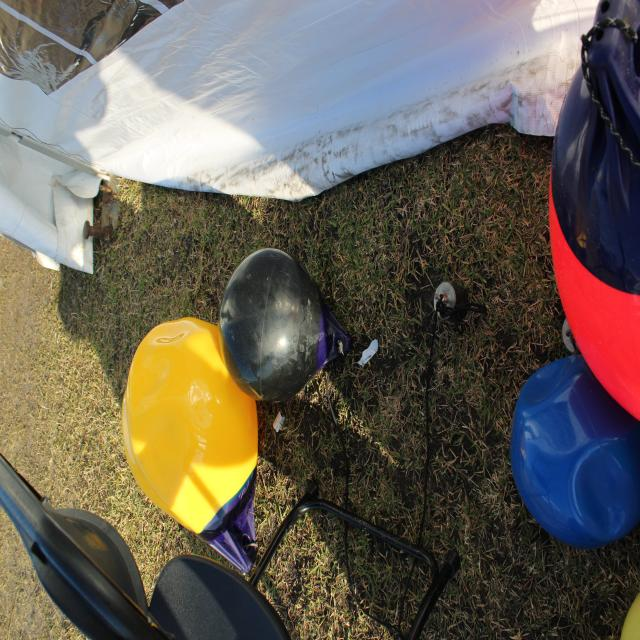black-buoy: (225, 245, 362, 394)
blue-buoy: (510, 344, 640, 554)
red-buoy: (550, 0, 639, 436)
yellow-duck: (122, 308, 269, 544)
